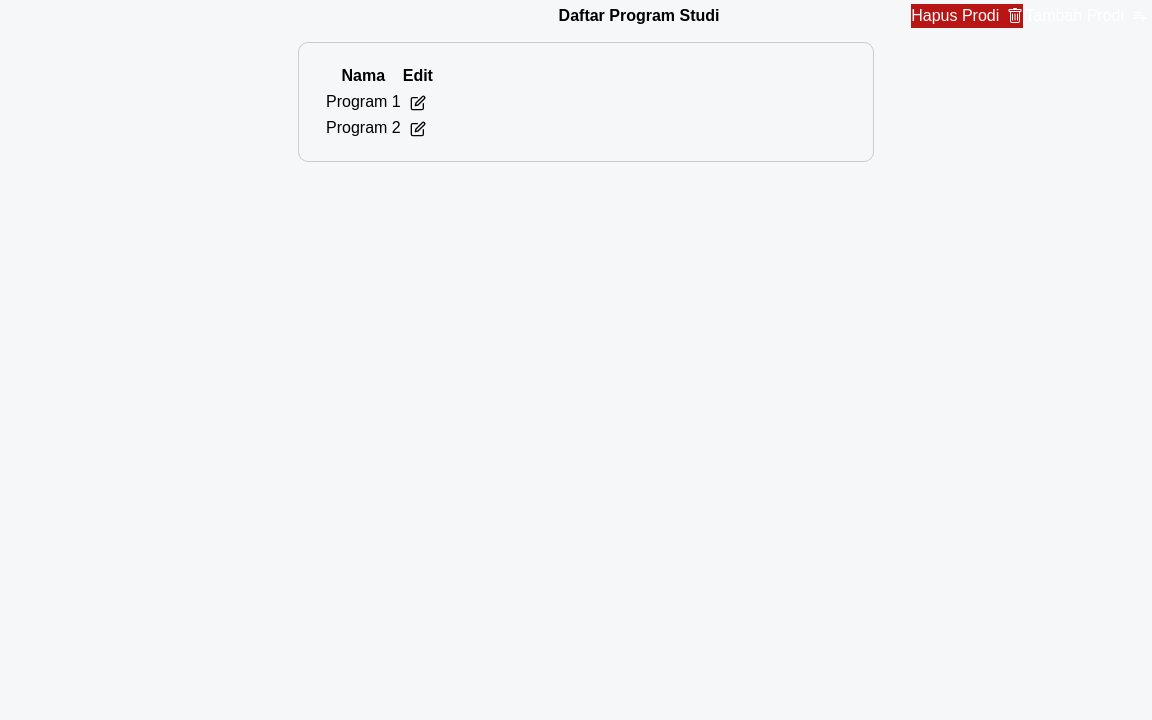
it: ContentSection › opens the edit modal when the edit button of a study program is clicked
Click the button named "Edit Prodi" next to "Program 1": (418,103) x1=410 y1=95 x2=426 y2=111
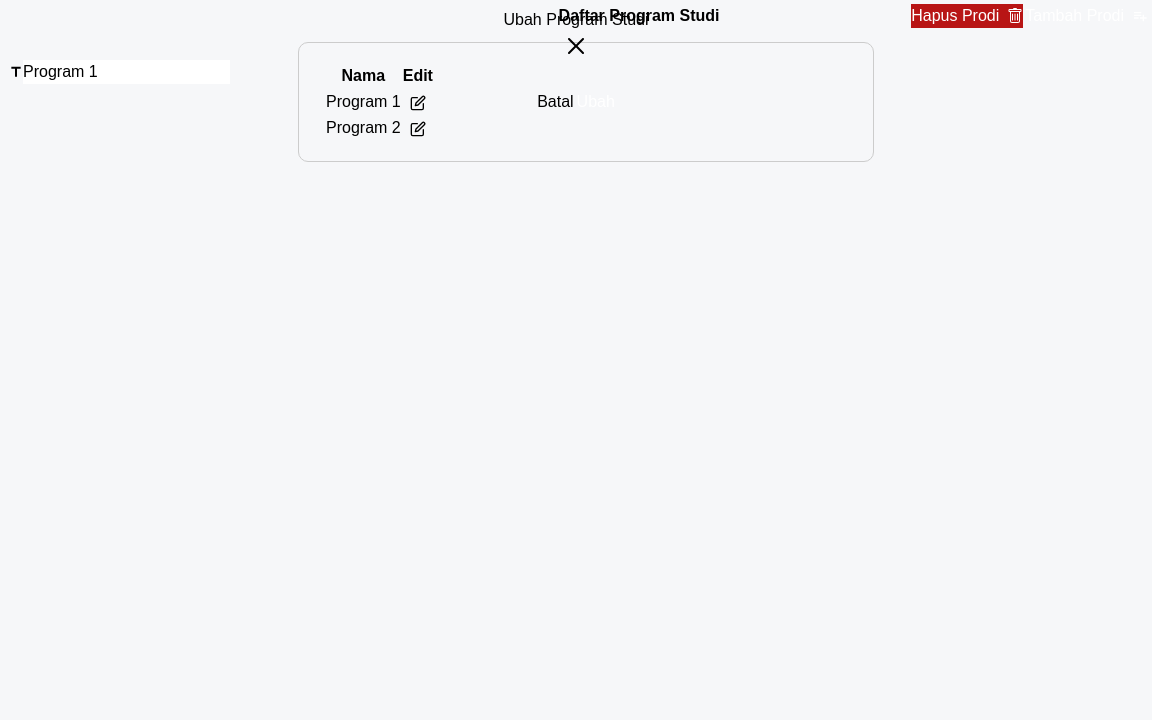
Expected: the text "Ubah Program Studi" is shown, x1=504 y1=11 x2=648 y2=28
